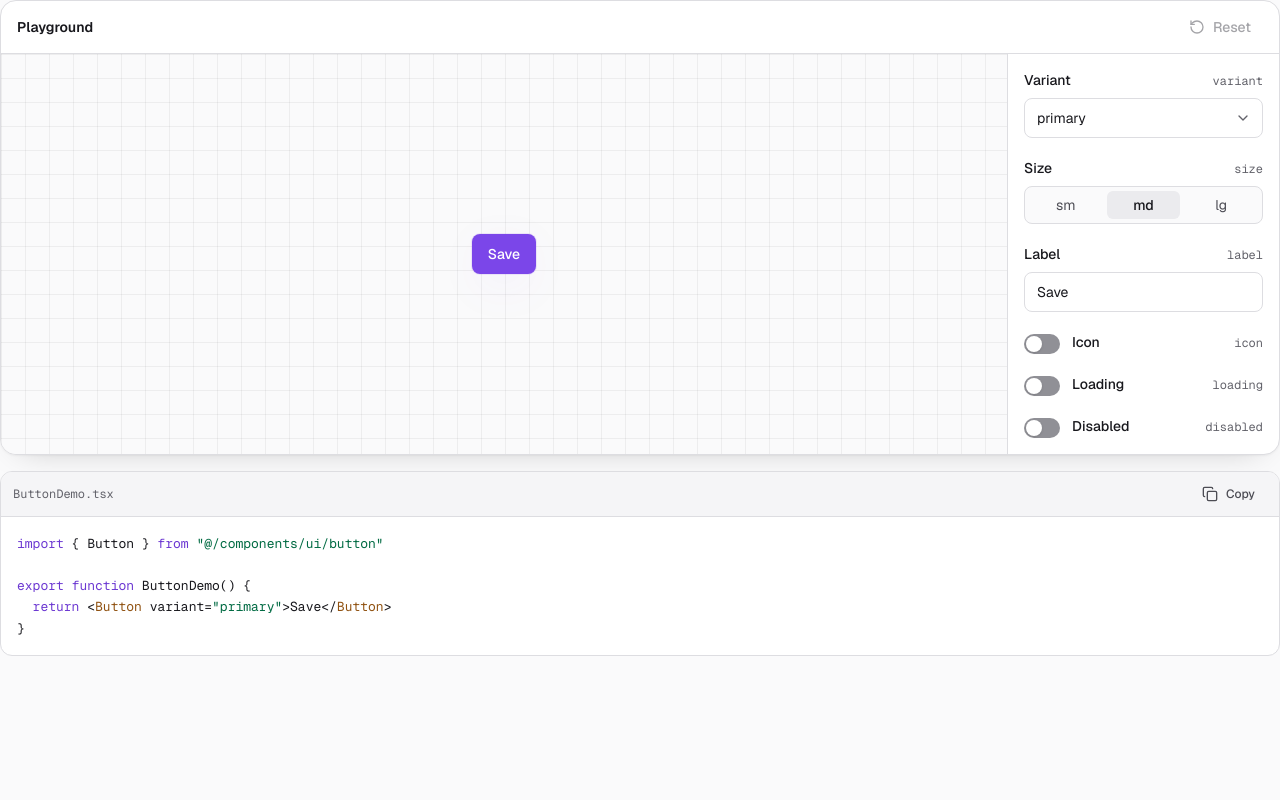
Scenario: ComponentPlayground › marks changes and resets to the initial props
This screenshot has width=1280, height=800.
Check: the button "Reset" is disabled, box [1177, 11, 1263, 43]
Click the switch labelled "Loading": (1074, 385) [1024, 374, 1124, 396]
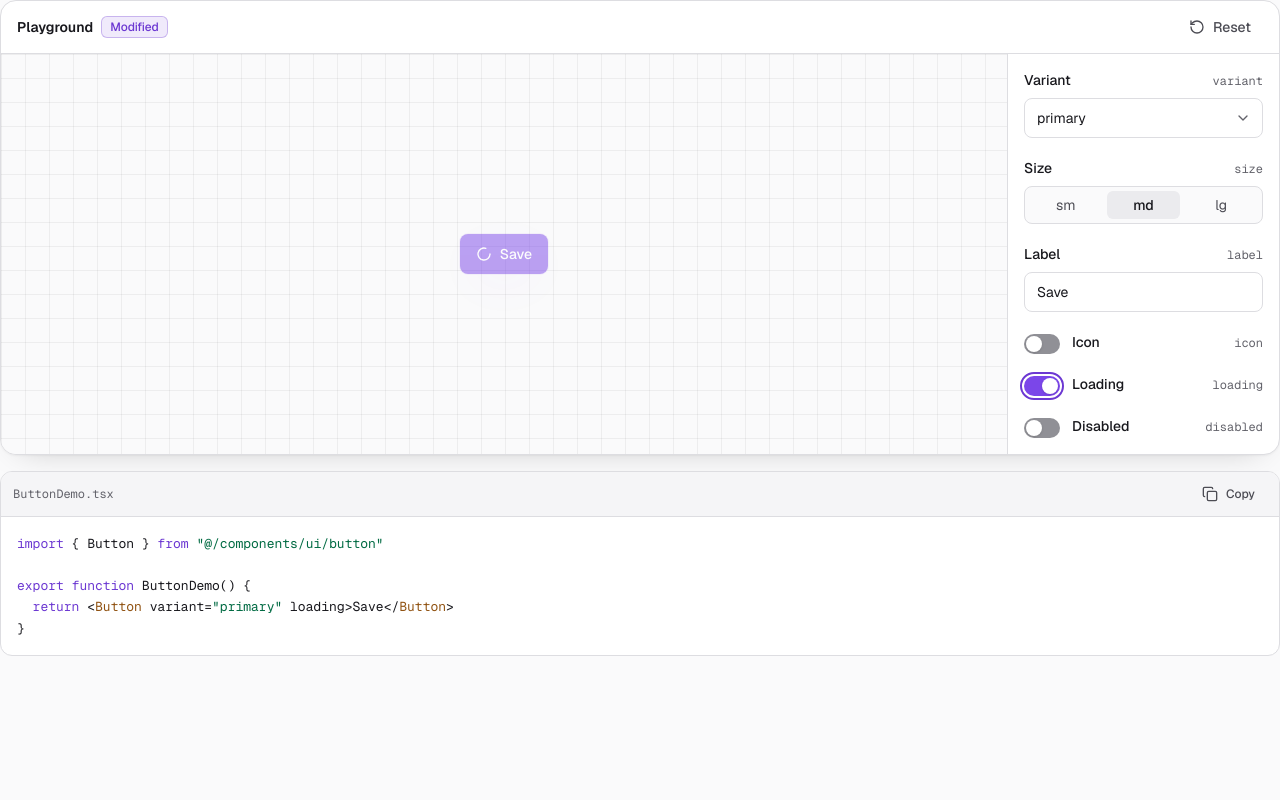
Check: the switch named "Loading (modified)" is checked, box [1024, 374, 1124, 396]
Check: the text "Modified" is shown, box [101, 16, 168, 38]
Click the button "Reset": (1220, 27) [1177, 11, 1263, 43]
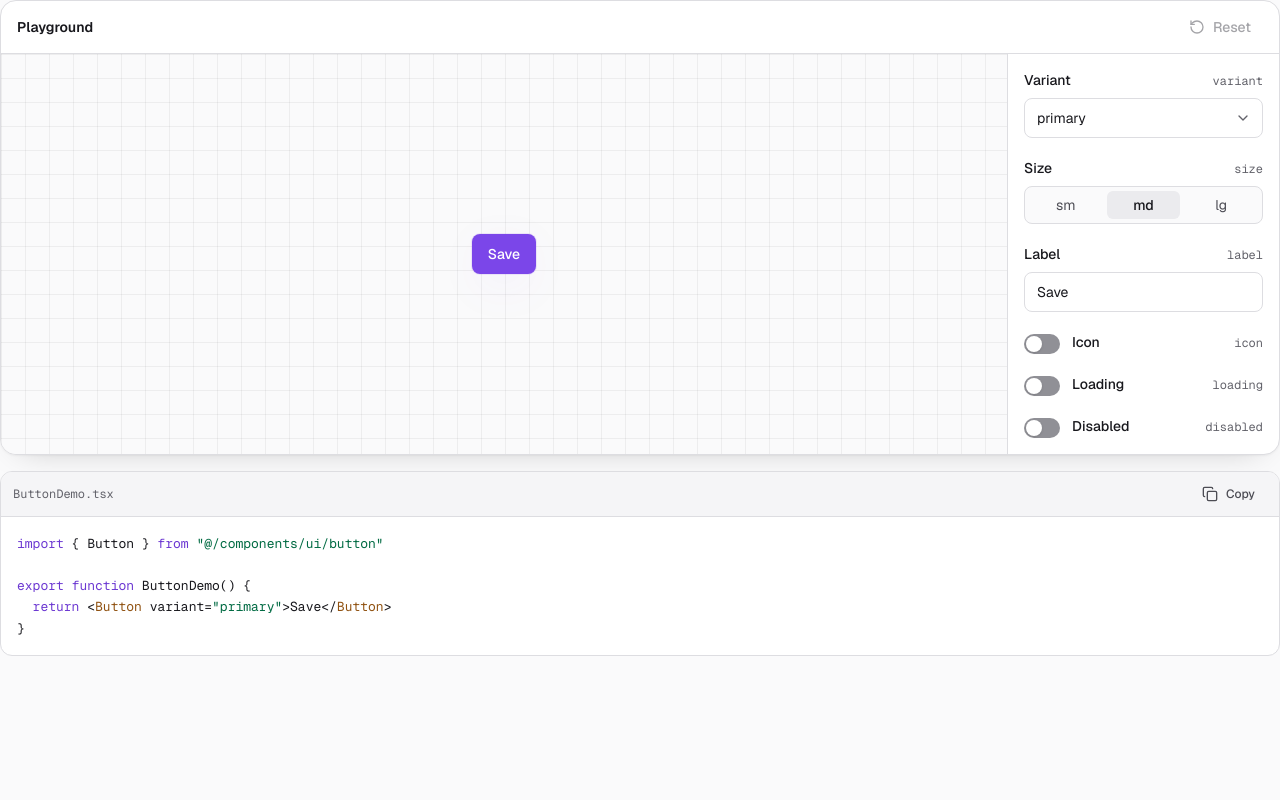
Check: the text "Modified" is gone
